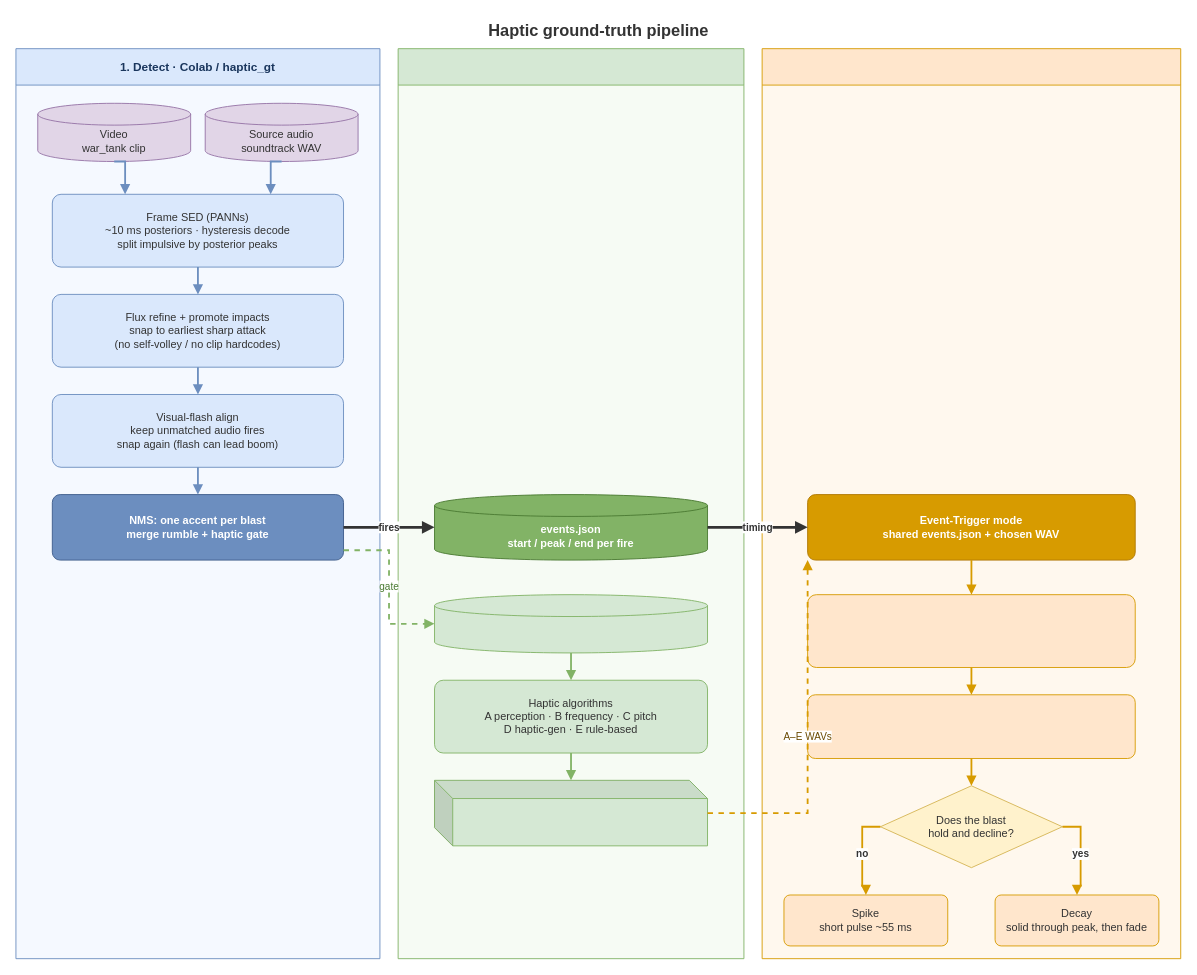
Image size: 1197x975. Some labels were removed from this diagram. Here are the shapes that lost their labels. From the top down, the box of each, then its label:
(397, 48, 744, 959): 2. Pack · output folder
(761, 48, 1181, 959): 3. Play · Android tester
(434, 594, 708, 653): gated_audio.wav
(807, 594, 1135, 667): Fire at peak − 70 ms hold from start → end stop before the next shot
(807, 694, 1135, 758): Shape from that algorithm WAV envelope inside the event span
(434, 779, 708, 846): Upload folder events.json + algorithm_*.wav
